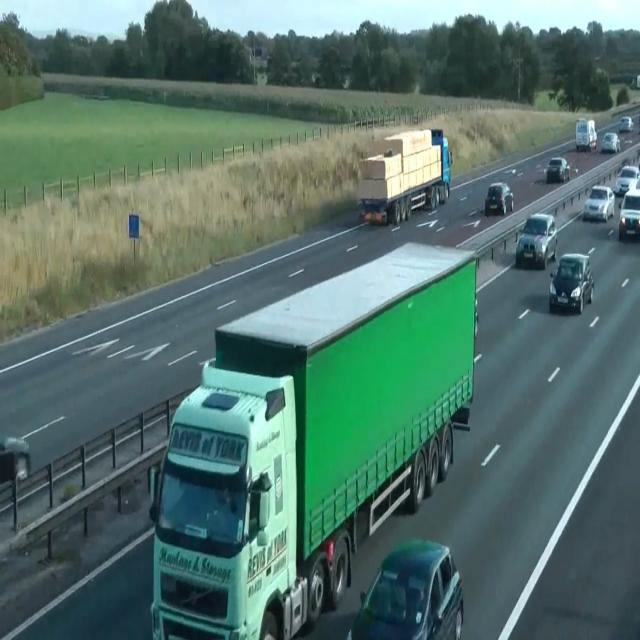bus: (347, 538, 464, 639), (549, 252, 594, 314), (516, 212, 558, 270), (0, 435, 30, 483), (582, 184, 614, 222), (618, 188, 640, 240), (484, 181, 514, 216), (614, 164, 640, 197), (544, 157, 570, 183), (602, 131, 620, 153), (618, 116, 634, 132), (626, 176, 640, 193), (474, 297, 478, 339)
minibus: (147, 240, 479, 638), (357, 127, 452, 226), (575, 118, 597, 151)
